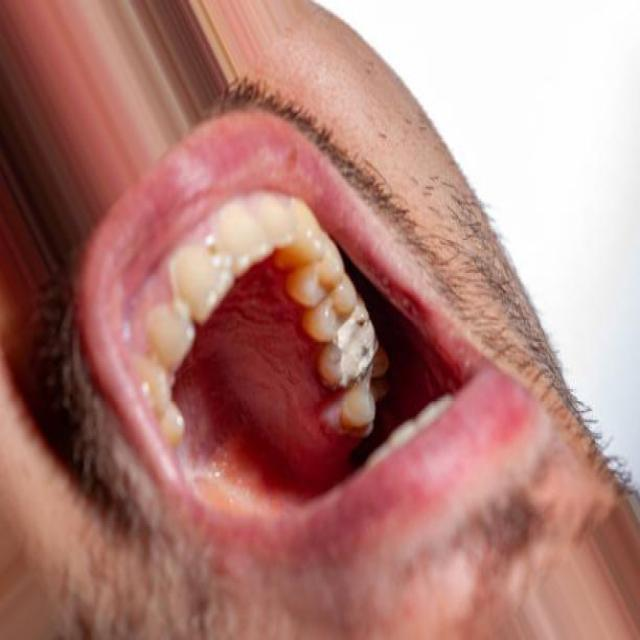caries: (332, 304, 380, 388)
